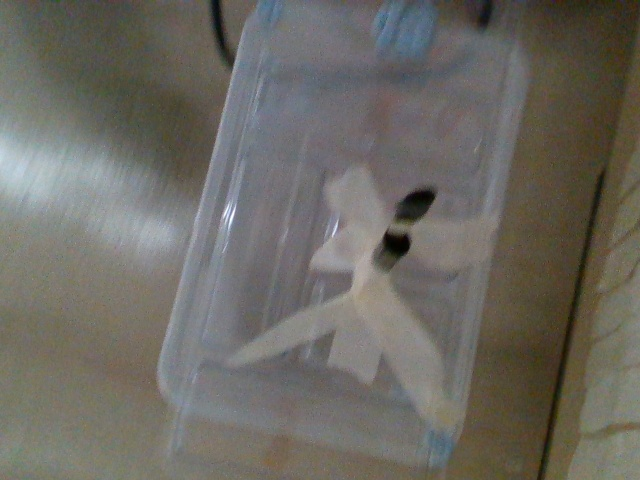test_strip: (386, 187, 438, 233)
